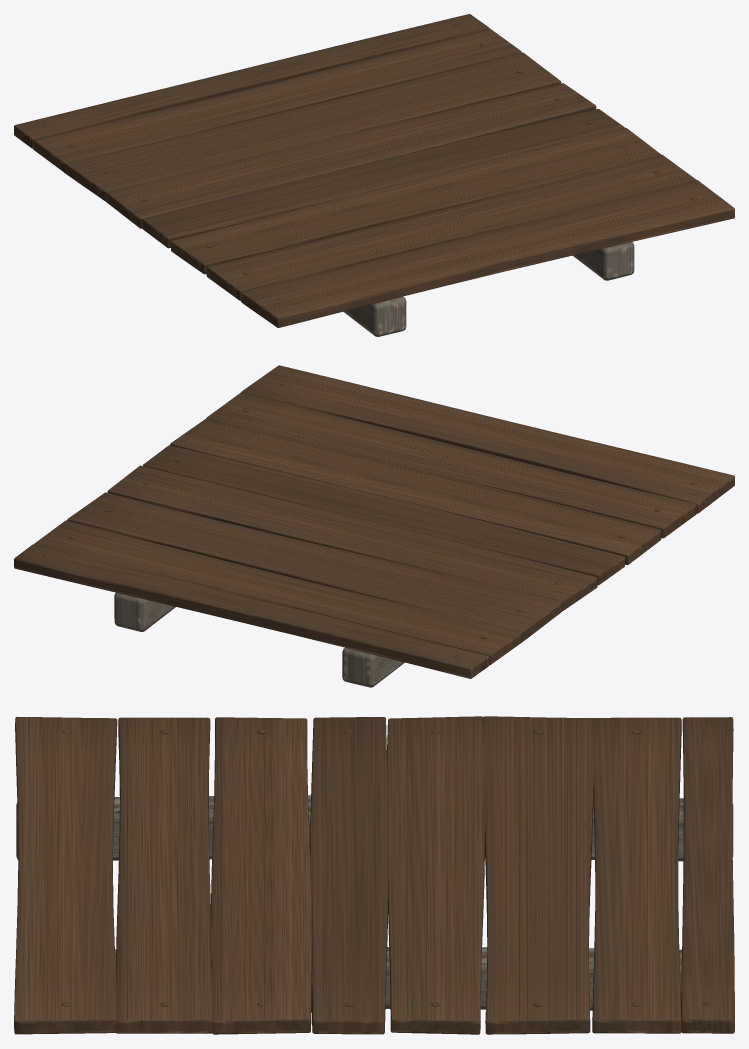
Rendered from floor_planks_2x2.glb.
The picture shows the model from 3 angles, top to bottom: view 1: azimuth 30°, elevation 25°; view 2: azimuth 150°, elevation 25°; view 3: azimuth 270°, elevation 25°; orthographic projection. The views are drawn at different scales.
Visible parts, largest first — view 1: floor_planks_2x2; view 2: floor_planks_2x2; view 3: floor_planks_2x2.
Part boxes in pixels (x1,y1,x2,y2): floor_planks_2x2: (14,14,734,336); floor_planks_2x2: (14,365,734,687); floor_planks_2x2: (14,716,734,1034).
Bounding box in the file's own units: 2 × 0.192 × 2.01.
Materials: 1 (1 with a texture image).
